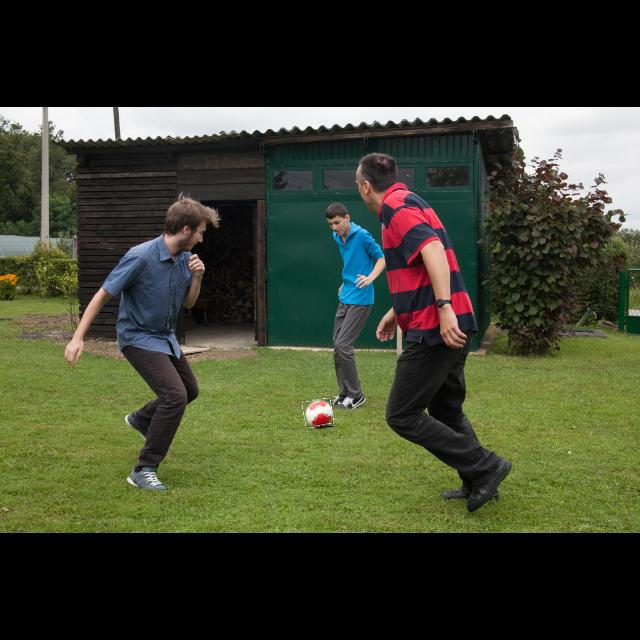Football: (303, 399, 333, 427)
